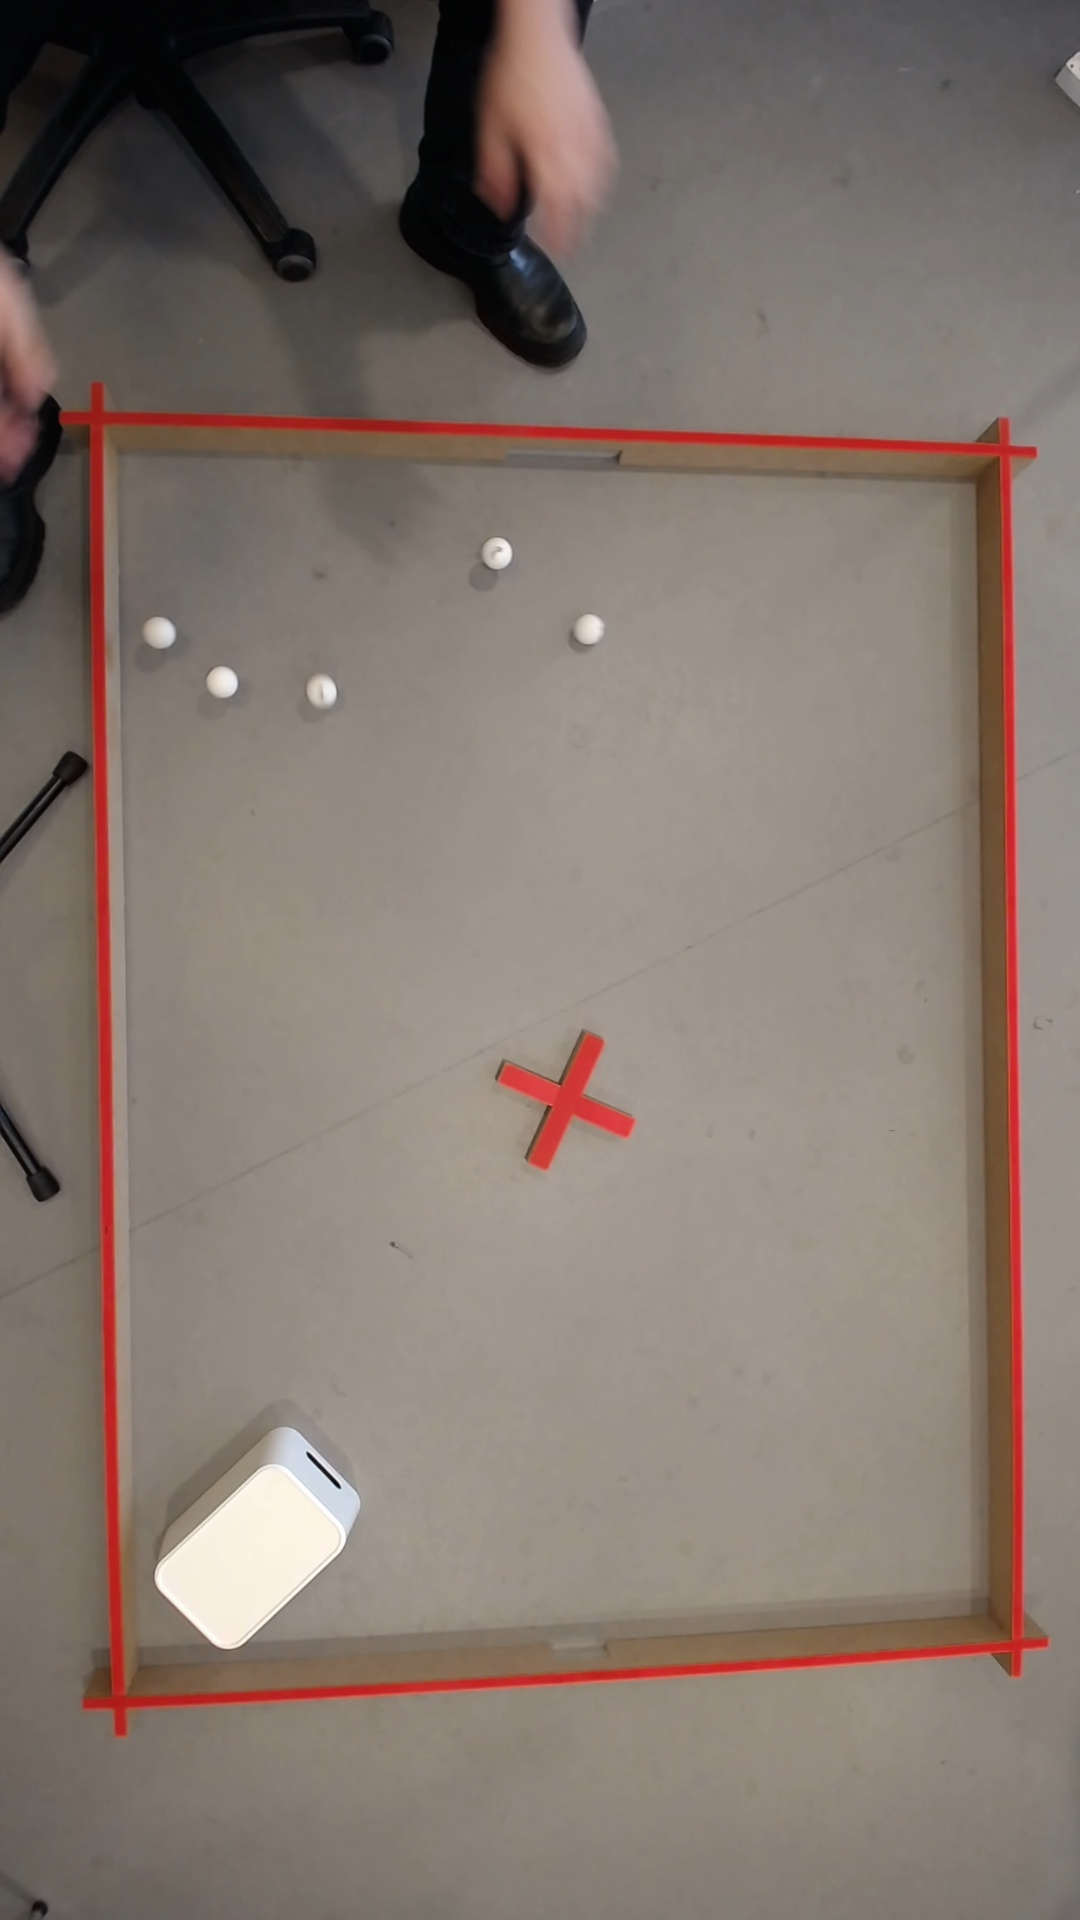balls: (144, 1425, 378, 1662), (480, 531, 516, 571), (204, 662, 241, 699), (574, 611, 608, 645)
car: (146, 616, 178, 646)
